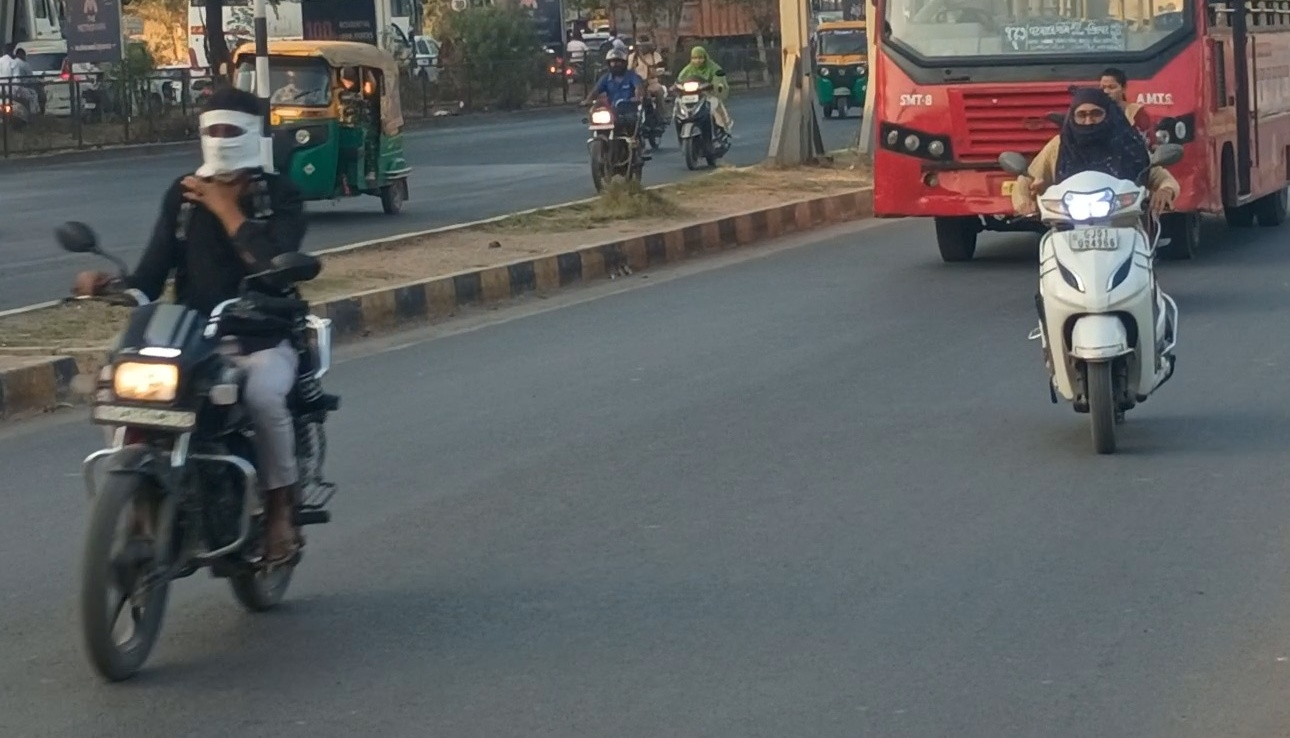BikeWithRider: (42, 78, 353, 690), (992, 62, 1195, 461), (573, 39, 659, 198), (665, 38, 742, 174)
Helmet: (602, 45, 632, 75)
NoHelmet: (179, 82, 279, 184), (1053, 84, 1129, 145), (686, 41, 712, 67)
